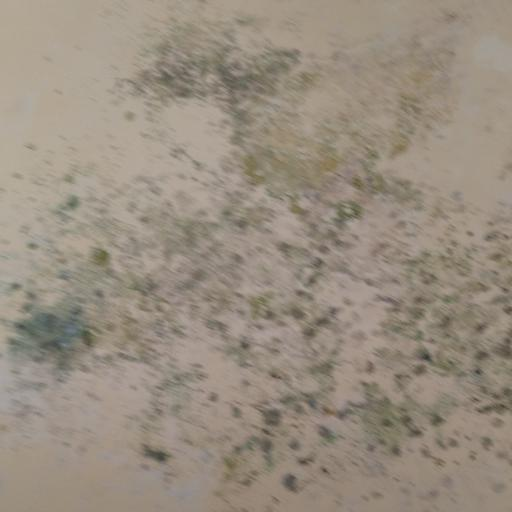algae: (51, 42, 501, 470)
